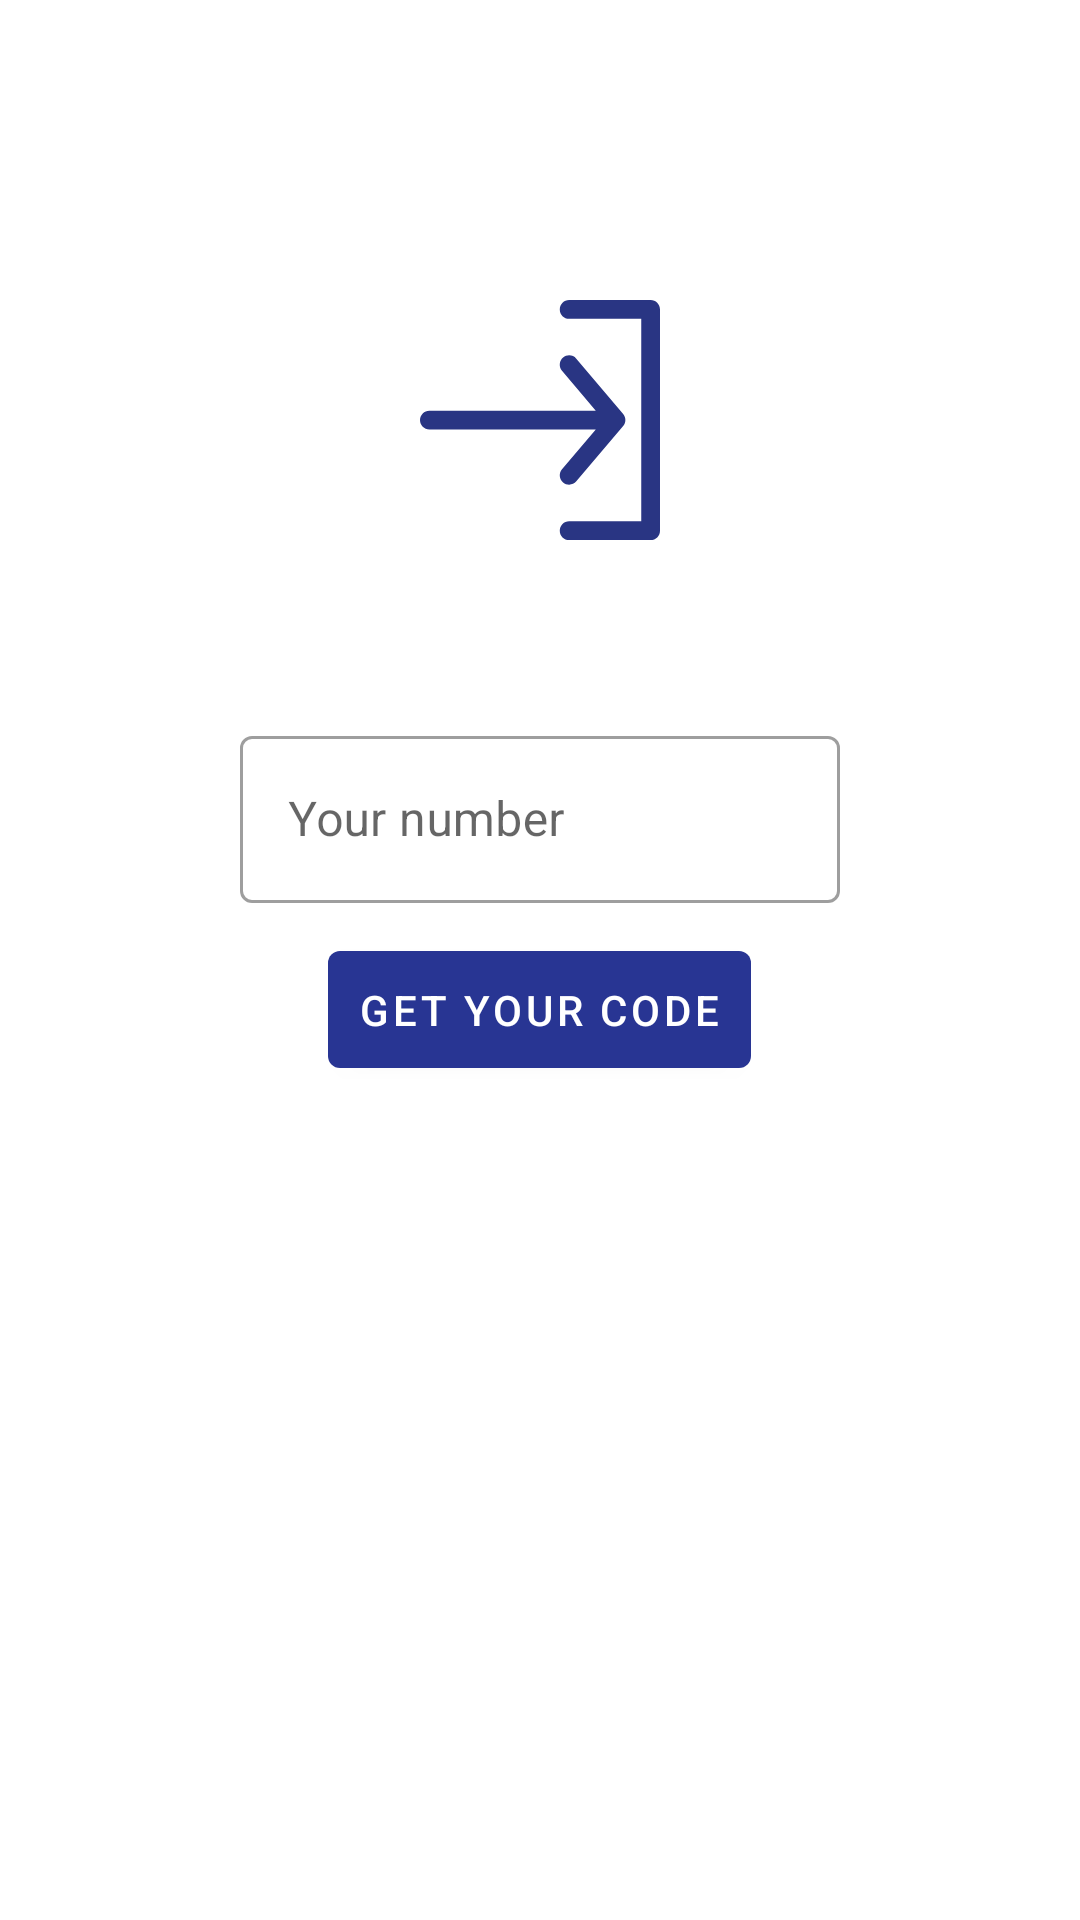

Icons on this 1080px x 1920px Android screen, each with its box as Rect(x1, y1, x2, y2):
sign in: Rect(420, 300, 660, 540)
